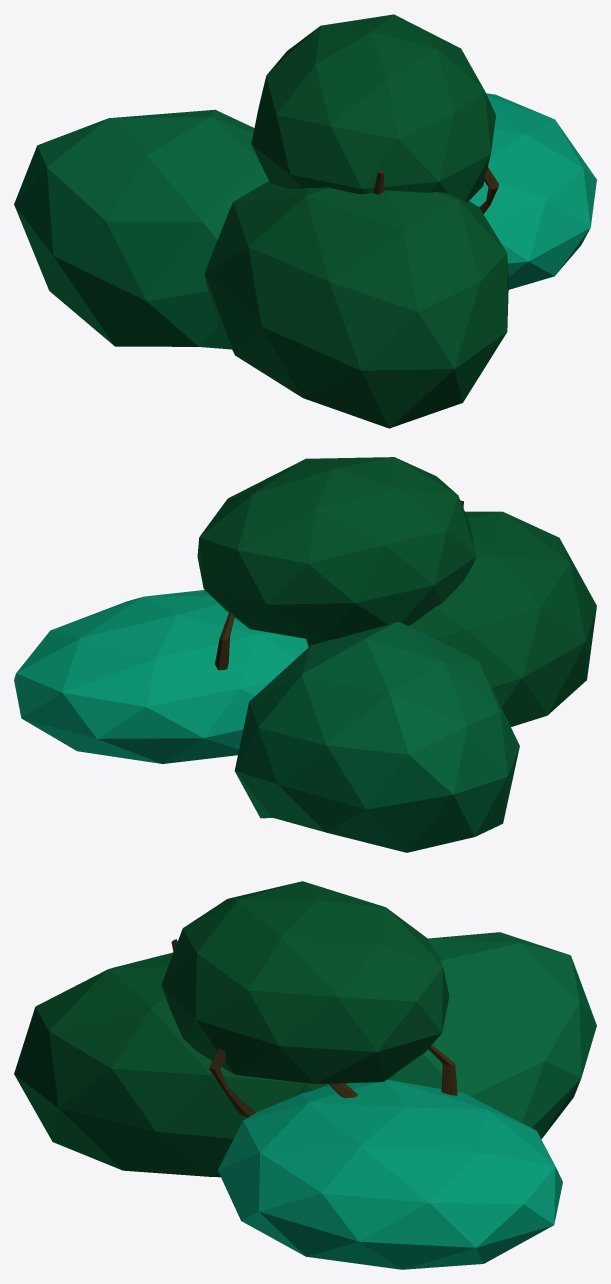
3 renders of one model, top to bottom at view 1: azimuth 30°, elevation 25°; view 2: azimuth 150°, elevation 25°; view 3: azimuth 270°, elevation 25°, orthographic. The views are drawn at different scales.
Visible parts, largest first — view 1: Icosphere.015, Icosphere.014, Icosphere.016, Icosphere.013; view 2: Icosphere.014, Icosphere.016, Icosphere.013, Icosphere.015, Cylinder.004; view 3: Icosphere.013, Icosphere.016, Icosphere.015, Icosphere.014, Cylinder.007, Cylinder.004.
Boxes of the visible parts, bbox=[...] form: Icosphere.015: bbox=[204, 181, 508, 428]; Icosphere.014: bbox=[14, 109, 268, 349]; Icosphere.016: bbox=[251, 14, 495, 201]; Icosphere.013: bbox=[469, 93, 596, 289]; Icosphere.014: bbox=[234, 622, 519, 852]; Icosphere.016: bbox=[197, 457, 476, 641]; Icosphere.013: bbox=[14, 590, 308, 763]; Icosphere.015: bbox=[306, 511, 596, 726]; Cylinder.004: bbox=[215, 611, 234, 670]; Icosphere.013: bbox=[218, 1079, 562, 1269]; Icosphere.016: bbox=[161, 881, 449, 1083]; Icosphere.015: bbox=[14, 952, 349, 1177]; Icosphere.014: bbox=[387, 932, 596, 1138]; Cylinder.007: bbox=[209, 1048, 255, 1117]; Cylinder.004: bbox=[427, 1045, 457, 1095].
Bounding box in the file's own units: 112 × 73.53 × 113.
